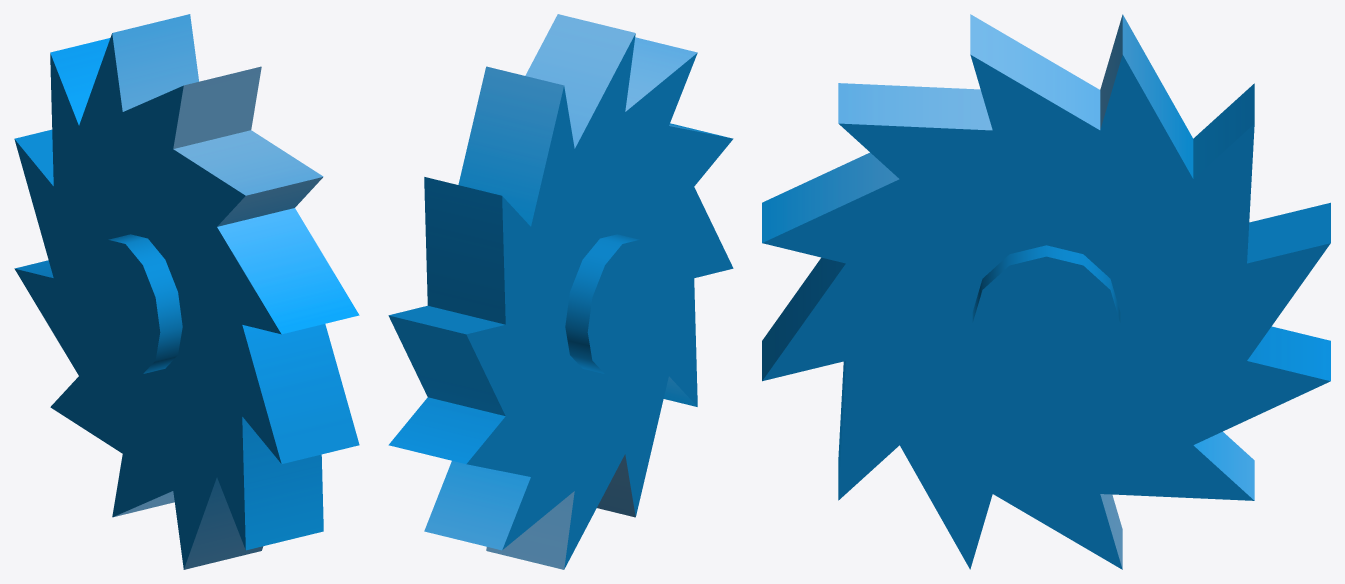
The model's file is Saw.fbx.
3 renders of one model, left to right at view 1: azimuth 30°, elevation 25°; view 2: azimuth 150°, elevation 25°; view 3: azimuth 270°, elevation 25°, orthographic. The views are drawn at different scales.
Parts seen in each view (by area): view 1: Cylinder002; view 2: Cylinder002; view 3: Cylinder002.
Boxes of the visible parts, <box> form: Cylinder002: <box>14,14,359,569</box>; Cylinder002: <box>388,14,733,569</box>; Cylinder002: <box>762,14,1330,569</box>.
Bounding box in the file's own units: 72.52 × 275 × 275.
1 material, 1 textured.
